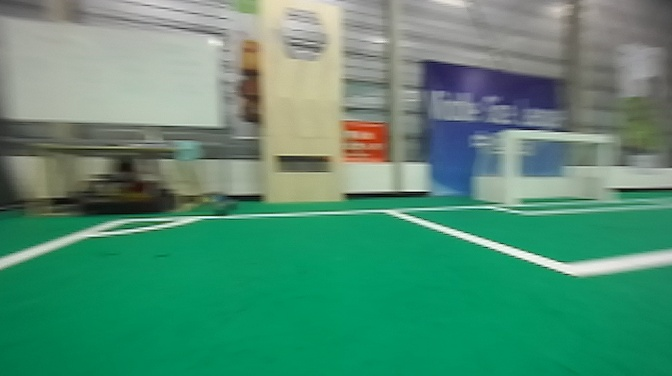goalpost: (496, 125, 525, 212)
